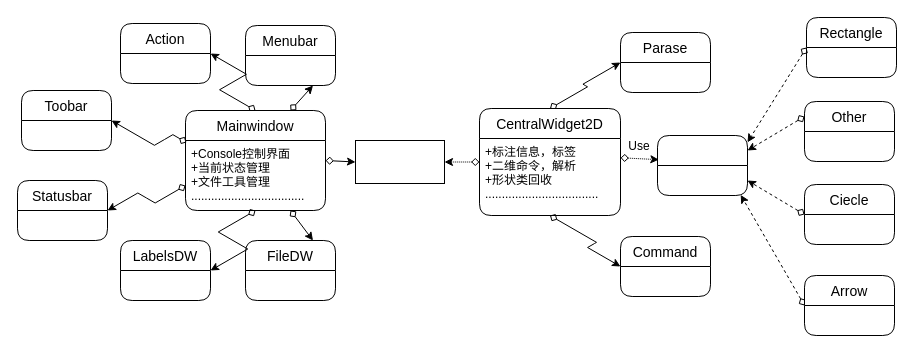
Some shapes in this 914 by 353 pixel diagram are drawn without their labels. Each missing label, with the centre of its shape:
Interface Central Widget: point (399, 162)
Label: point (702, 165)
